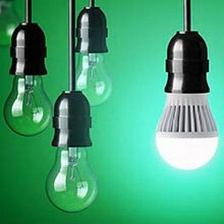light_bulb: (148, 68, 224, 175), (41, 138, 103, 217), (1, 64, 57, 141), (64, 38, 117, 115)
